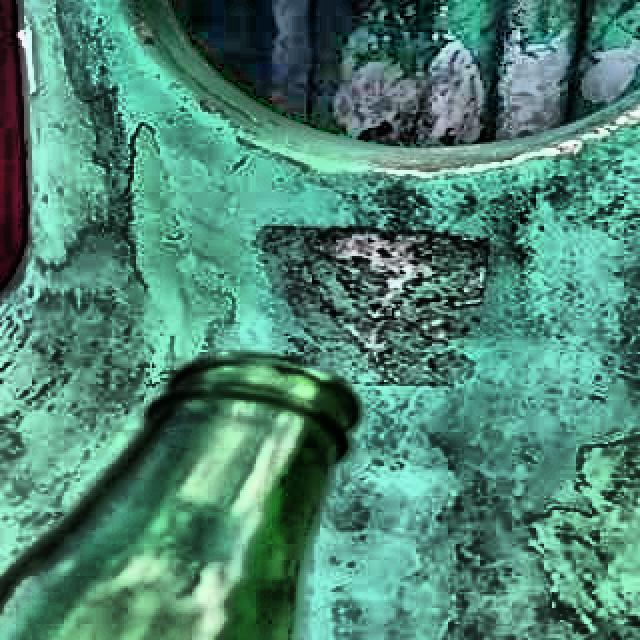glass: (0, 357, 357, 640)
